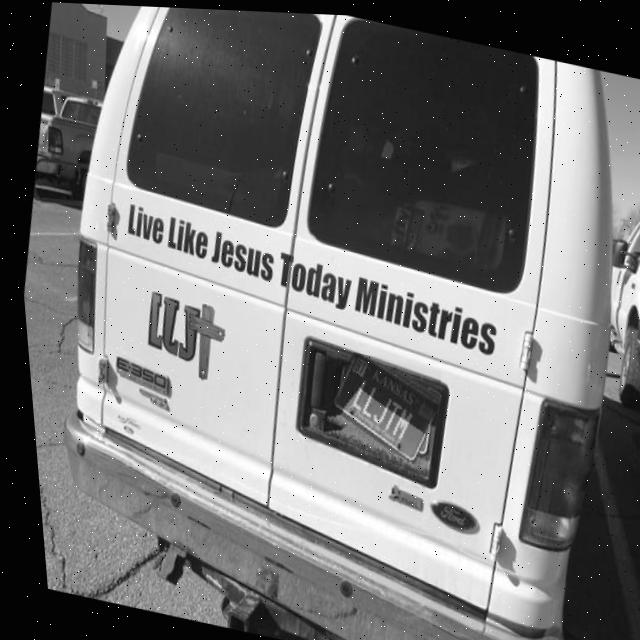LicensePlate: (325, 350, 431, 459)
